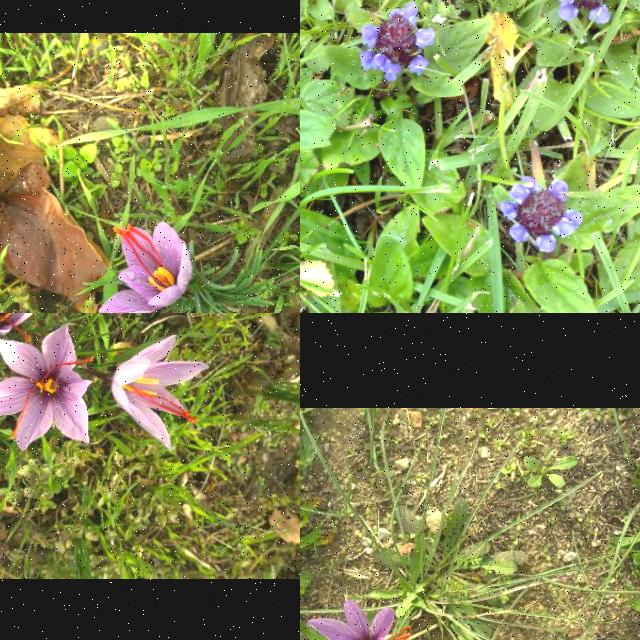flower: (0, 323, 95, 450), (110, 336, 210, 452), (99, 221, 193, 313), (307, 600, 408, 640)
